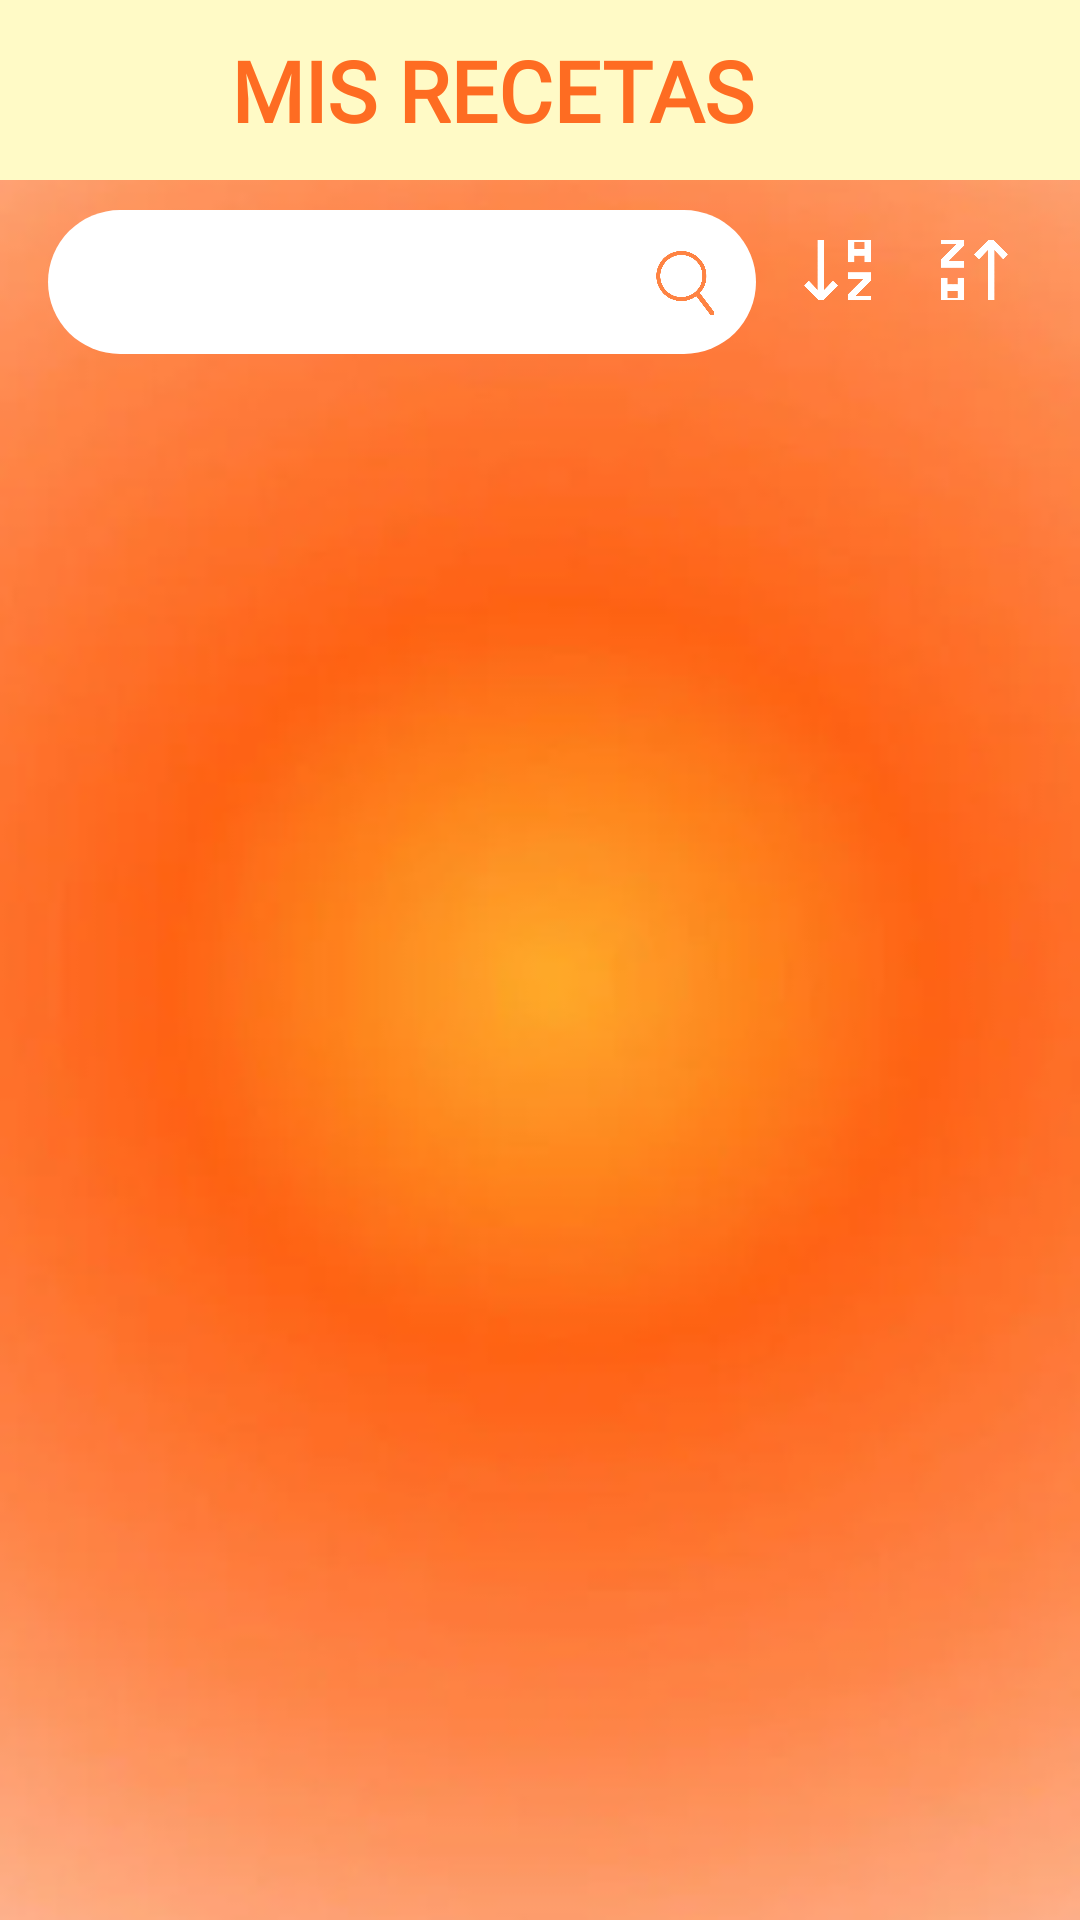

Screen size 1080px x 1920px. Icon name, then its center in pixels as (x,y):
Ordenar A-Z: (837,270)
